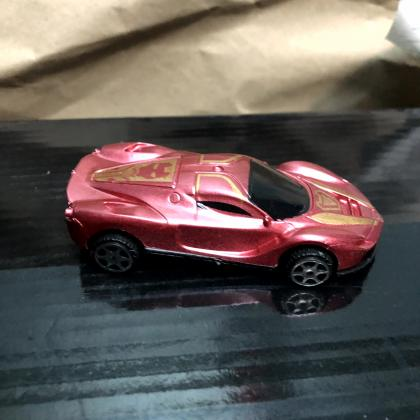Car: (63, 142, 384, 289)
